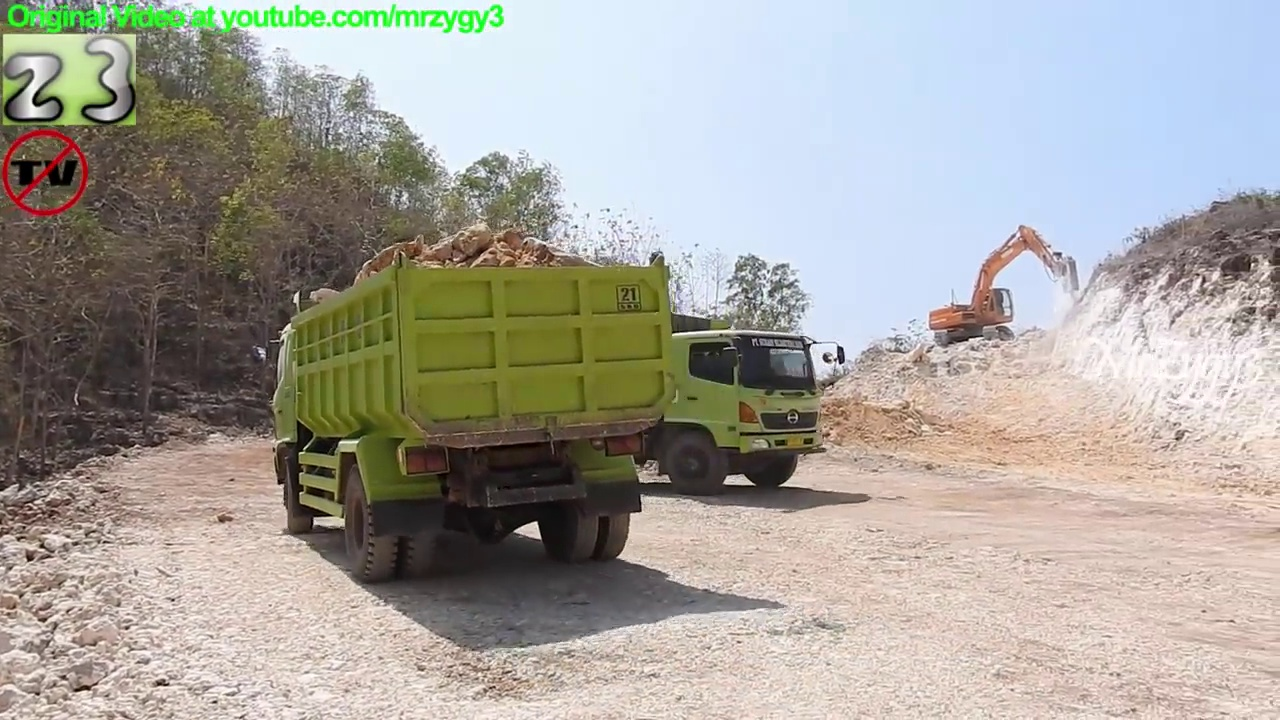excavator: (922, 219, 1086, 351)
truck: (246, 245, 685, 589), (434, 292, 851, 502)
